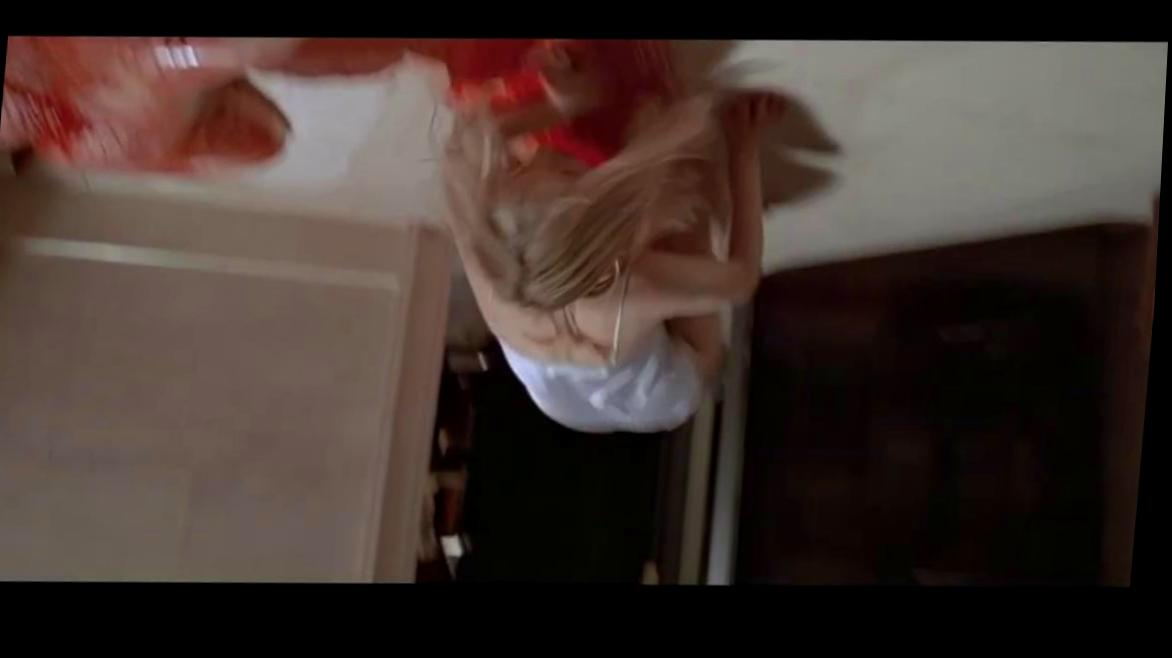Fire: (0, 37, 680, 179)
